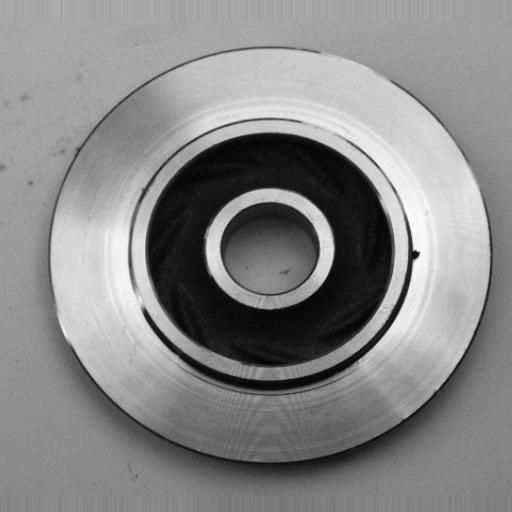crack: (400, 239, 429, 270)
scratch: (120, 256, 155, 318)
unpolished_casting: (50, 41, 495, 468)
